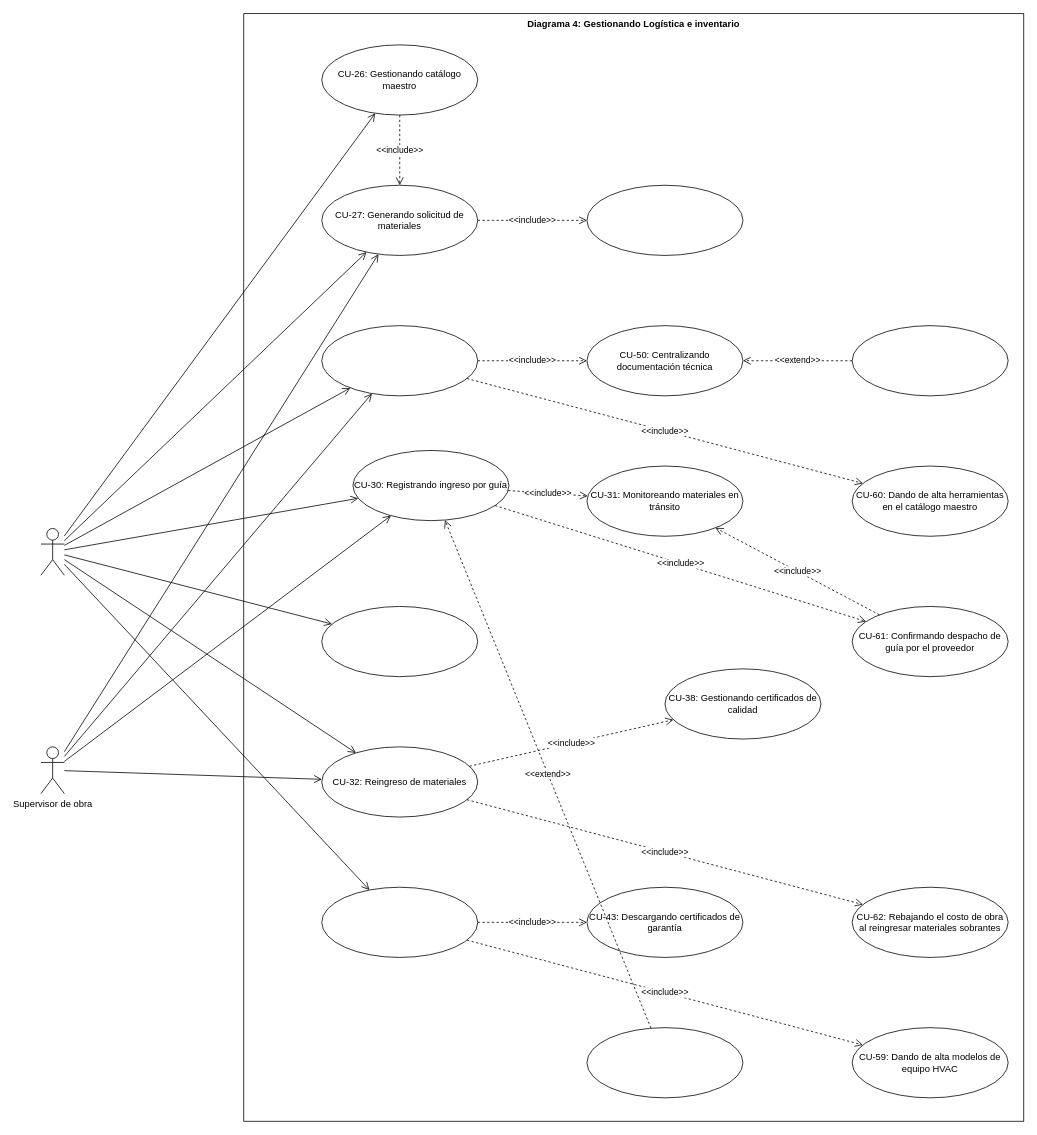
Some shapes in this 1037 by 1135 pixel diagram are drawn without their labels. The box of each missing label's shape, as (x1, y1, x2, y2) in pixels:
Administrador total: (40, 528, 64, 575)
CU 34: Gestionando catálogo de proveedores: (321, 606, 478, 677)
CU-28: Validando solicitud: (586, 184, 743, 255)
CU-29: Asignación y trazabilidad: (321, 325, 478, 396)
CU-33: Subiendo documentación técnica: (321, 886, 478, 957)
CU-51: Gestionando activos compartidos: (851, 325, 1008, 396)
CU-58: Registrando recepción en obra: (586, 1027, 743, 1098)
